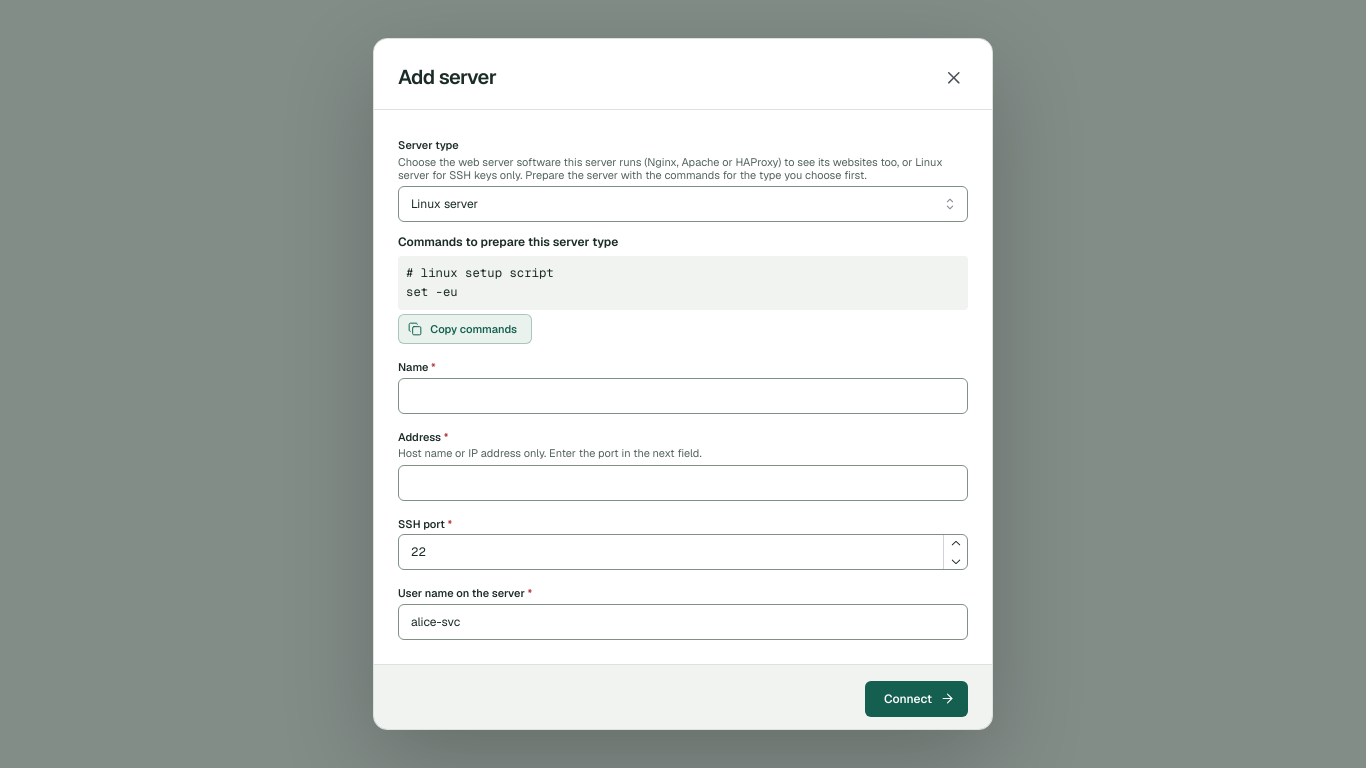
Test: AddServerModal WinRM transport › offers the transport for a Windows server only, OpenSSH by default
The image size is (1366, 768).
Expected: the field labelled "Connection" is not shown
Select "Windows server" in the dropdown labelled "Server type" at {"x": 683, "y": 204}, box [398,186,968,222]
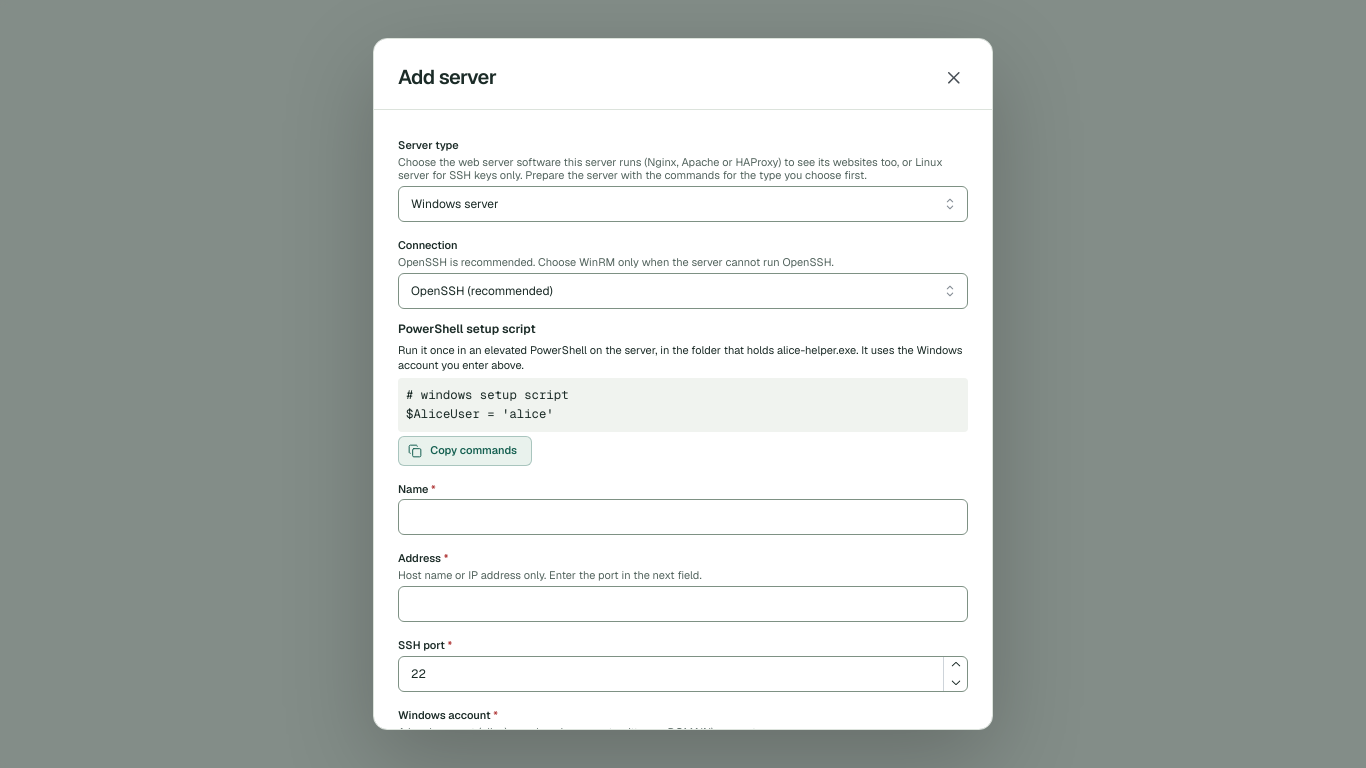
Expected: the field labelled "SSH port *" holds "22", [398,656,968,692]
Result: the dropdown labelled "Connection" shows "OpenSSH (recommended)" at [398,273,968,309]
Result: the text with test id "add-server-script" shows "# windows setup script" at [406,386,568,422]
